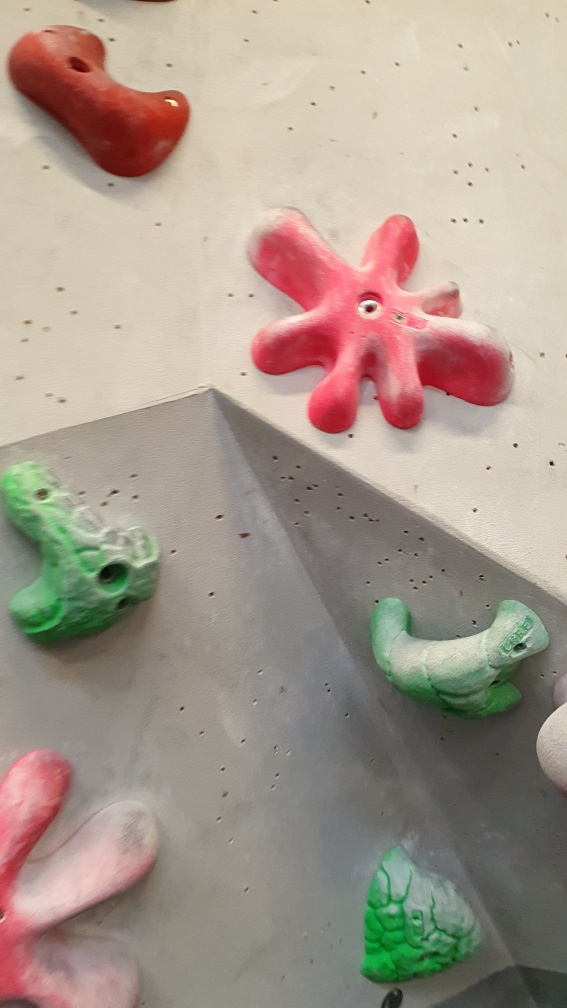Hand Start: (373, 982, 407, 1008)
Jug: (364, 587, 554, 724), (364, 845, 492, 993)
Octopus Pinch: (245, 198, 521, 442), (1, 739, 169, 1006)
